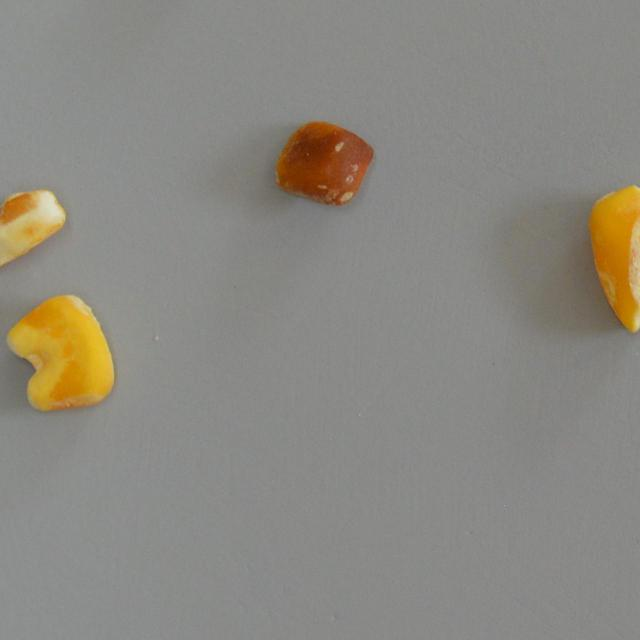dañado: (2, 286, 114, 416), (268, 118, 380, 211), (580, 176, 640, 338), (0, 182, 70, 288)
